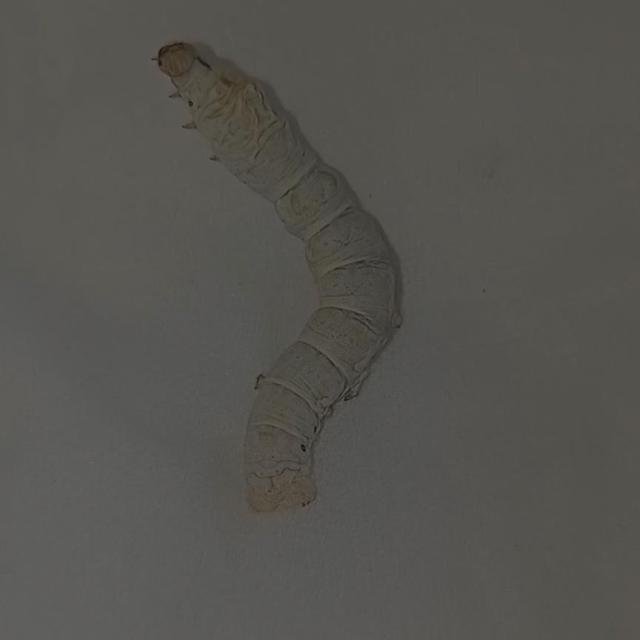Healthy: (130, 8, 428, 564)
